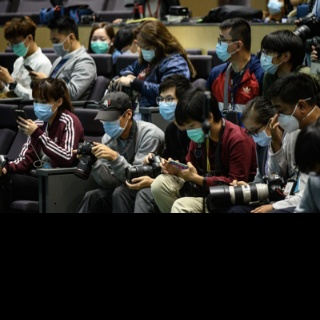with_mask: (274, 102, 299, 133), (97, 115, 126, 139), (156, 92, 178, 123), (245, 124, 272, 148), (259, 47, 282, 75), (33, 94, 56, 121), (216, 32, 236, 62), (184, 118, 207, 144), (89, 32, 112, 54), (50, 34, 71, 55), (136, 41, 156, 63), (7, 39, 29, 57), (120, 44, 140, 58)
